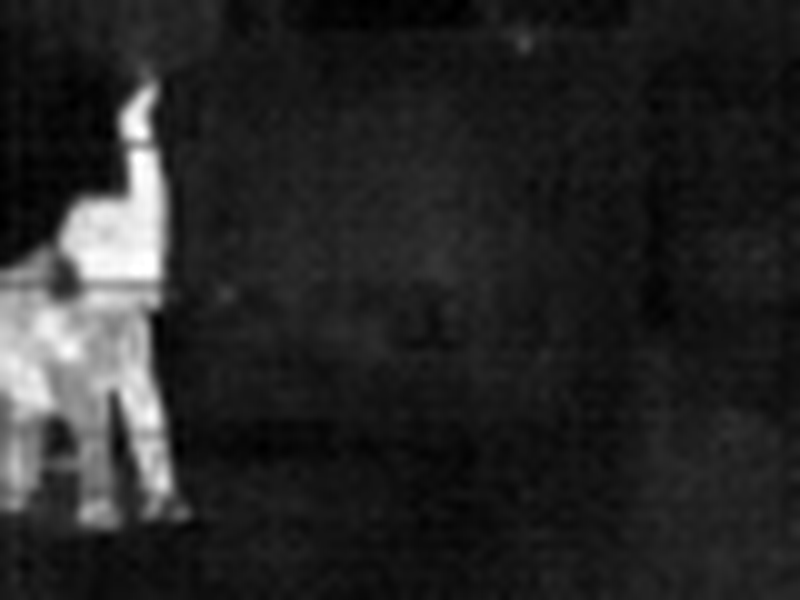elephant: (4, 80, 188, 540)
